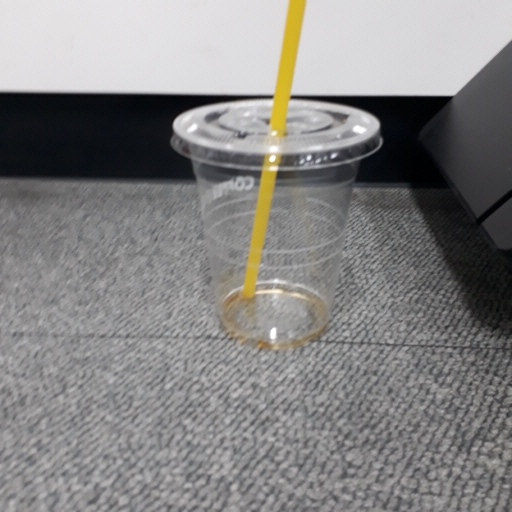Plastic_2: (166, 2, 383, 349)
